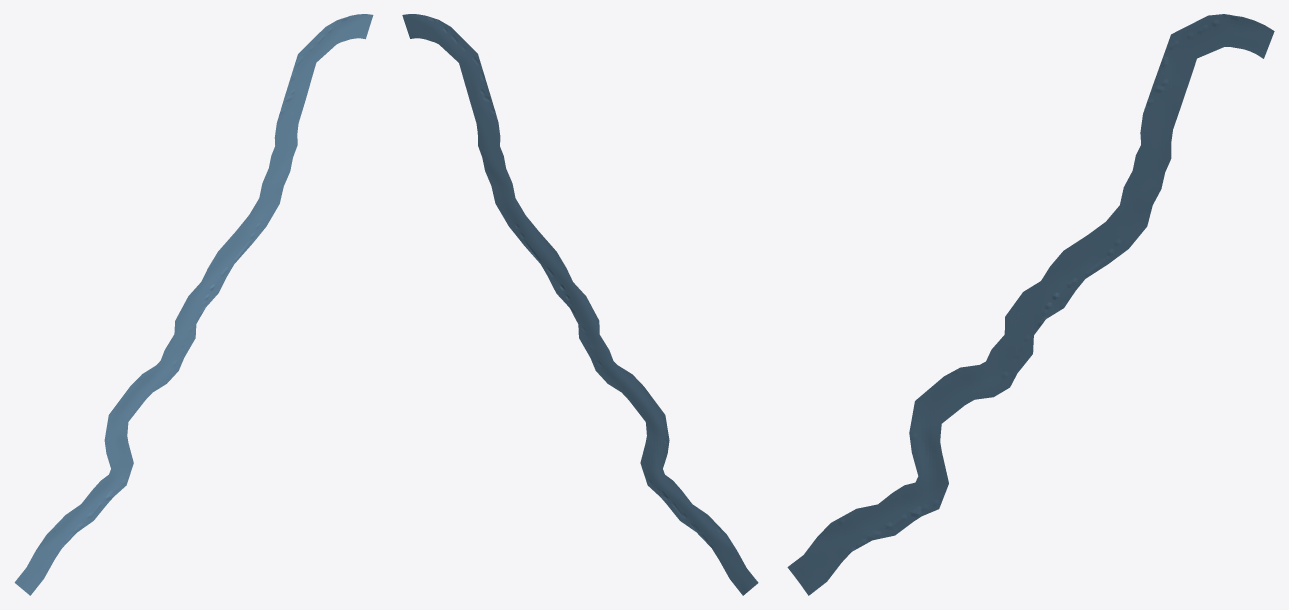
Rendered from river-ribbon.glb.
3 views of the same model, side by side, from view 1: azimuth 30°, elevation 25°; view 2: azimuth 150°, elevation 25°; view 3: azimuth 330°, elevation 25° (orthographic). The views are drawn at different scales.
Parts seen in each view (by area): view 1: world; view 2: world; view 3: world.
Part boxes in pixels (box(x1,y1,x2,y2)): world: box(14, 14, 373, 595); world: box(402, 14, 758, 595); world: box(787, 14, 1274, 595).
Bounding box in the file's own units: 2681 × 3599 × 16.93.
